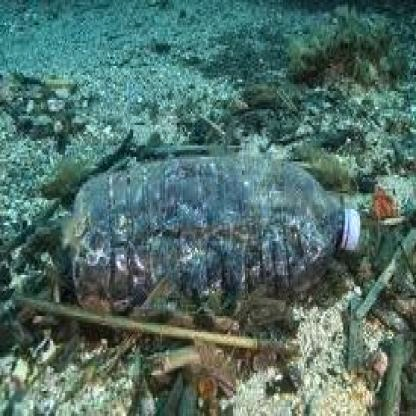pbottle: (68, 134, 366, 309)
